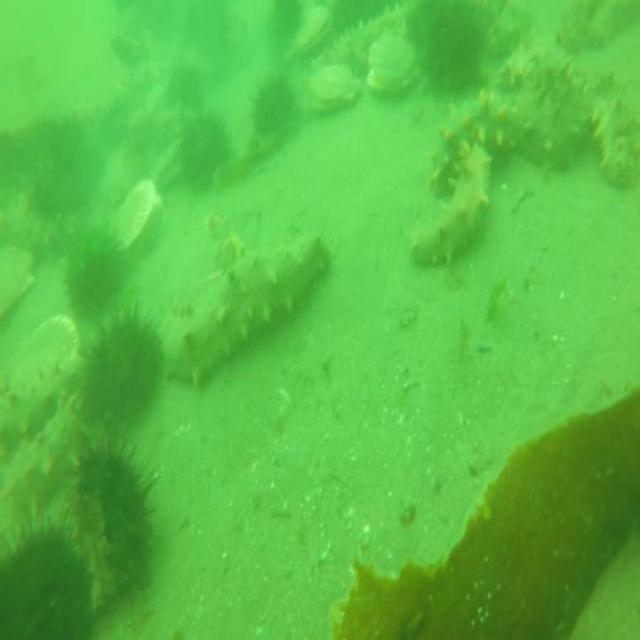echinus: (72, 439, 159, 599), (73, 302, 164, 444), (0, 510, 93, 639), (417, 0, 491, 103), (62, 221, 126, 319), (170, 109, 233, 199), (246, 73, 300, 150), (163, 57, 206, 126), (328, 0, 384, 38), (266, 0, 308, 44)
holothurian: (155, 224, 336, 390), (431, 87, 534, 197), (1, 382, 80, 520), (408, 139, 489, 269), (508, 44, 588, 172), (310, 6, 412, 73), (0, 366, 76, 453), (589, 71, 639, 193), (0, 190, 50, 251)
scallop: (1, 313, 80, 389), (113, 172, 161, 269), (367, 29, 422, 100), (308, 55, 362, 120), (0, 243, 40, 329), (287, 0, 333, 58)
